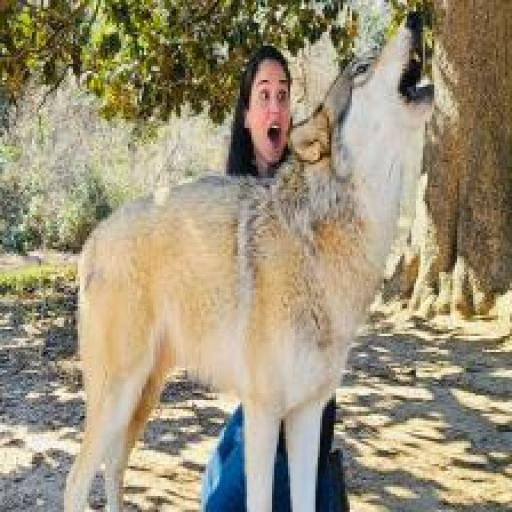wolf: (64, 0, 456, 512)
